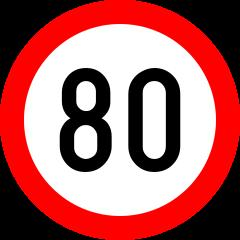Speed Limit -80-: (48, 57, 192, 187)
